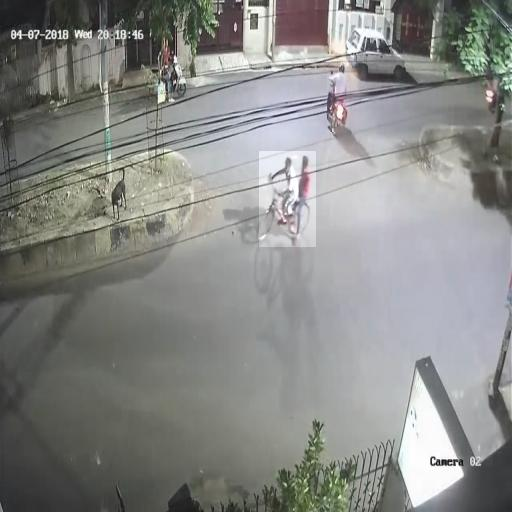小汽车: (347, 26, 407, 82)
自行车: (259, 151, 316, 247), (151, 36, 187, 103), (328, 65, 350, 132)
